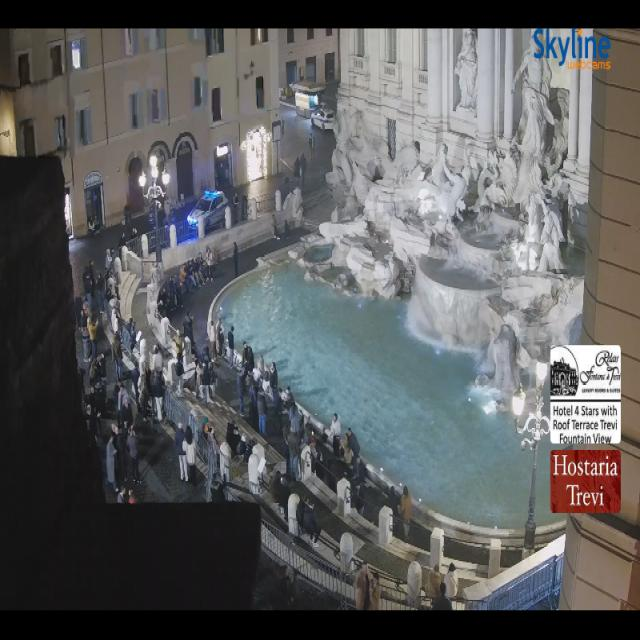person: (296, 501, 321, 548), (356, 564, 380, 610), (85, 382, 105, 434), (116, 302, 136, 351), (270, 471, 290, 519), (272, 471, 291, 521), (276, 567, 299, 607), (86, 387, 103, 435), (90, 382, 105, 434), (127, 426, 140, 483), (183, 426, 195, 487), (92, 382, 106, 434), (310, 438, 326, 482), (176, 423, 188, 480), (118, 382, 133, 427), (139, 361, 151, 417), (326, 413, 341, 457), (253, 356, 270, 393), (115, 427, 126, 483), (400, 485, 411, 540), (347, 428, 359, 478), (152, 373, 164, 422), (336, 434, 352, 469), (432, 582, 452, 610), (113, 300, 127, 340), (288, 430, 299, 480), (81, 302, 90, 363), (88, 353, 102, 391), (248, 377, 258, 430), (186, 259, 203, 290), (269, 362, 283, 399), (116, 382, 128, 425), (226, 421, 241, 455), (88, 271, 99, 316), (444, 563, 458, 598), (104, 272, 114, 320), (200, 360, 211, 403), (257, 388, 267, 435), (112, 334, 122, 381), (237, 368, 246, 417), (88, 315, 98, 359), (426, 569, 441, 598), (77, 364, 86, 411), (78, 364, 87, 411), (148, 202, 163, 230), (387, 487, 399, 522), (272, 388, 282, 430), (86, 404, 97, 442), (370, 572, 381, 610), (132, 360, 140, 412), (207, 359, 217, 400), (123, 317, 135, 351), (115, 382, 129, 411), (188, 259, 202, 288), (120, 396, 133, 427), (211, 319, 221, 359), (211, 479, 227, 504), (148, 202, 162, 230), (193, 253, 205, 285), (341, 436, 353, 468), (236, 435, 250, 462), (96, 353, 107, 387), (125, 317, 136, 351), (192, 253, 204, 284), (104, 262, 114, 299), (184, 311, 193, 352), (269, 363, 278, 404), (193, 352, 201, 398), (281, 387, 295, 413), (115, 300, 124, 340), (96, 272, 105, 312), (195, 359, 204, 399), (181, 262, 193, 292), (172, 277, 183, 309), (328, 413, 341, 440), (180, 263, 192, 292), (83, 267, 91, 310), (144, 360, 153, 398), (186, 260, 197, 290), (354, 483, 364, 515), (187, 262, 199, 288), (112, 303, 121, 337), (216, 320, 224, 358), (303, 416, 313, 446), (289, 403, 299, 433), (158, 286, 167, 319), (153, 344, 163, 373), (283, 387, 295, 411), (85, 385, 97, 409), (163, 198, 171, 234), (198, 253, 208, 281), (112, 268, 121, 299), (202, 417, 214, 440), (75, 295, 83, 329), (203, 247, 211, 281), (215, 320, 222, 358), (176, 357, 183, 395), (167, 277, 175, 310), (202, 343, 215, 363), (81, 300, 90, 328), (228, 325, 234, 367), (106, 272, 115, 299), (239, 194, 248, 221), (201, 416, 212, 438), (78, 364, 86, 394), (89, 356, 96, 389), (206, 247, 213, 280), (233, 192, 240, 224), (247, 346, 255, 373), (300, 153, 306, 188), (88, 216, 99, 235), (257, 355, 266, 378), (180, 266, 188, 290), (117, 485, 127, 504), (282, 417, 289, 444), (119, 232, 126, 259), (308, 134, 315, 160), (92, 215, 101, 235), (233, 242, 238, 277), (272, 214, 279, 239), (201, 346, 211, 363), (310, 434, 317, 458), (294, 158, 300, 186), (89, 260, 95, 287), (111, 423, 118, 446), (105, 249, 112, 272), (241, 342, 247, 367), (124, 205, 131, 224), (123, 205, 130, 224), (284, 220, 290, 239), (171, 207, 177, 226), (130, 227, 137, 240), (320, 165, 325, 183), (132, 227, 139, 239), (129, 491, 135, 504), (282, 117, 284, 135)
